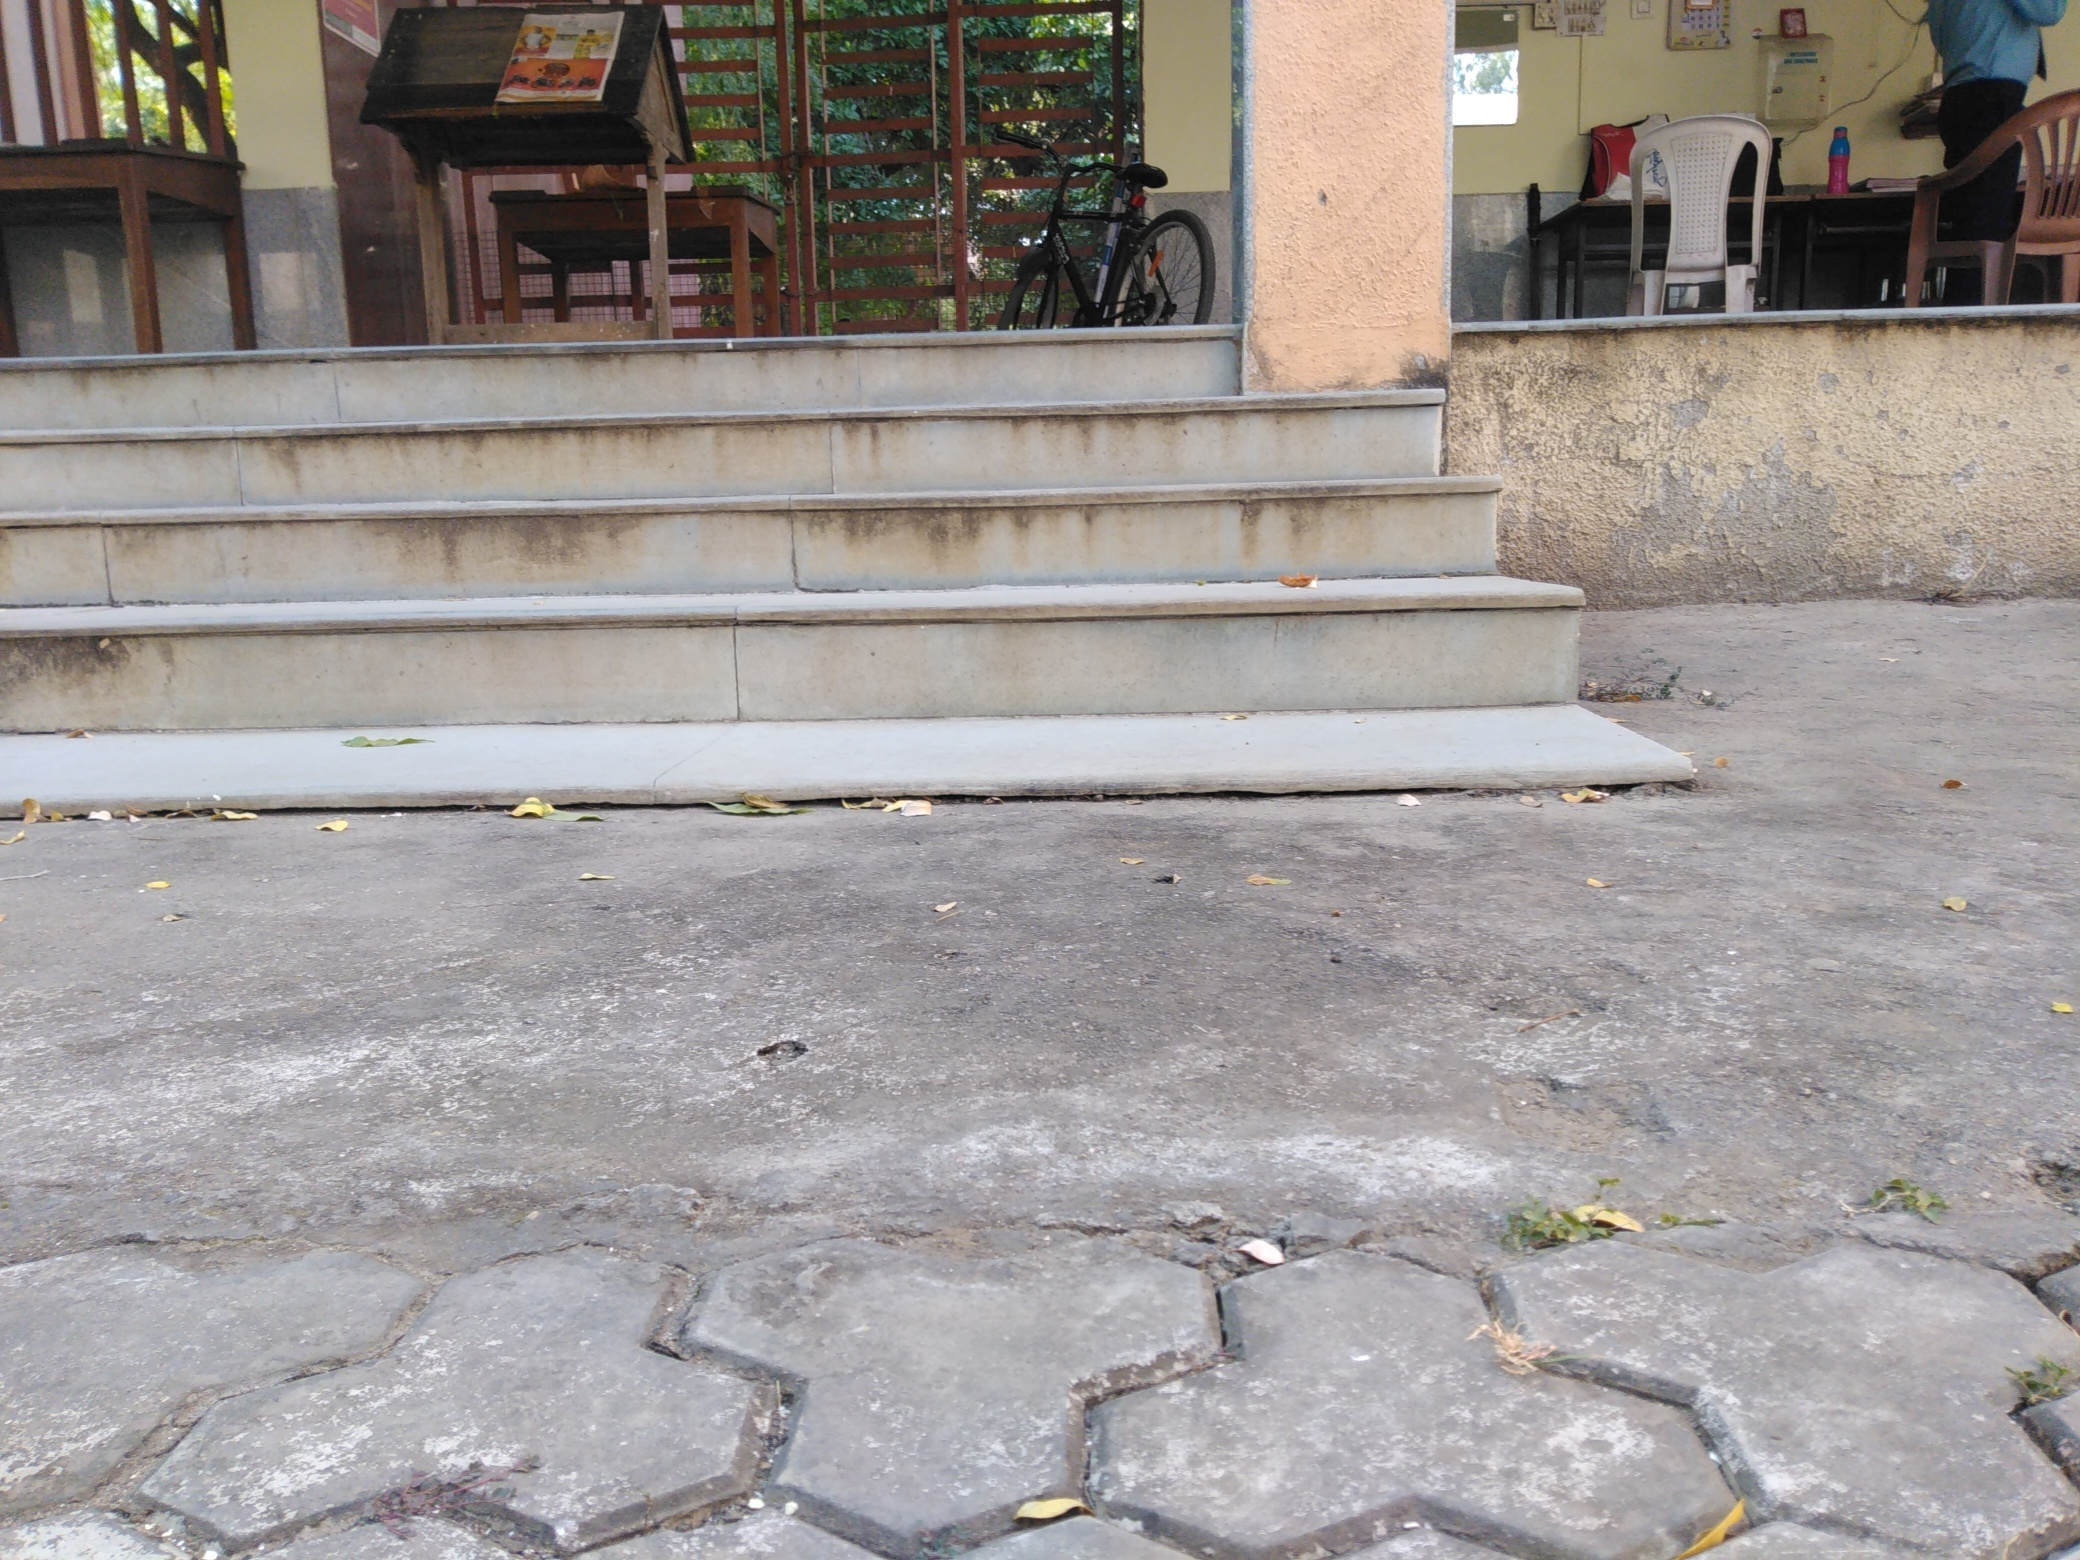stairs_up: (7, 347, 1603, 800)
